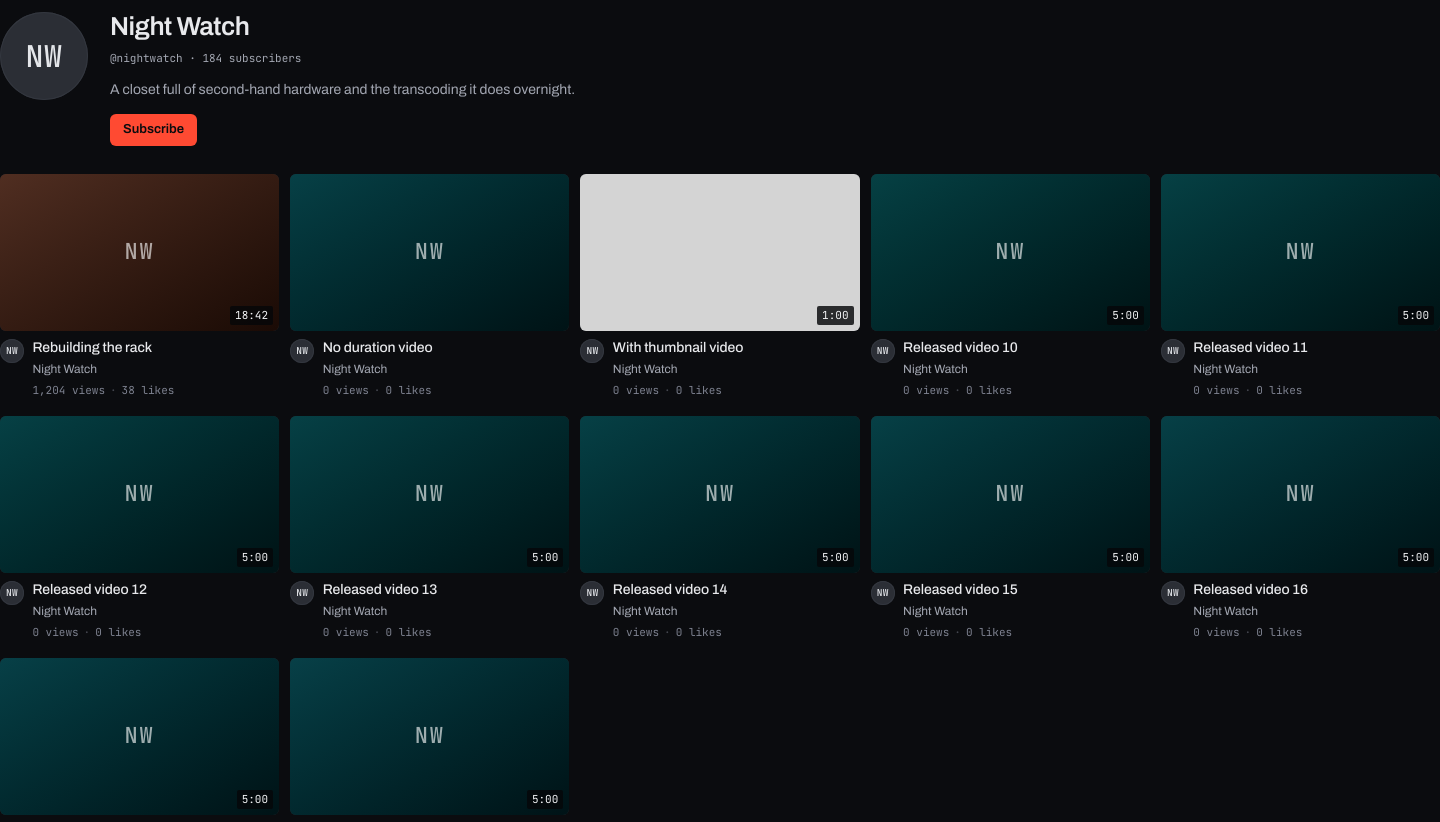
Test: Channel page › subscribes and unsubscribes with an optimistic subscriber count
The width and height of the screenshot is (1440, 822).
Expected: the heading "Night Watch" is shown, [110,12,249,40]
Click the button "Subscribe".
click(154, 130)  # box [110,114,197,146]
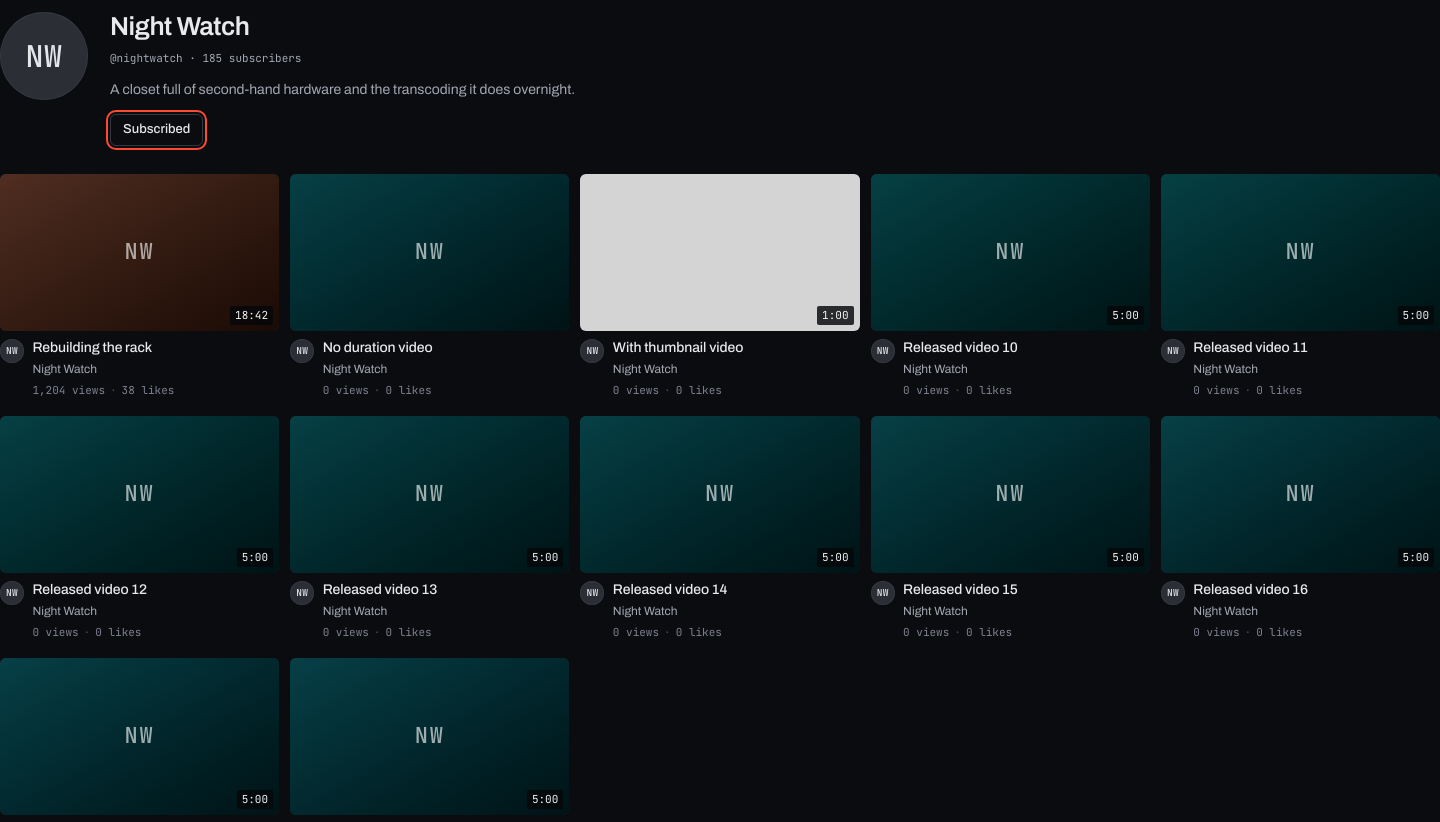
Expected: the text "@nightwatch · 185 subscribers" is shown, [110,51,302,65]
Expected: the button "Subscribed" is shown
Click the button "Subscribed".
click(157, 130)  # box [110,114,203,146]
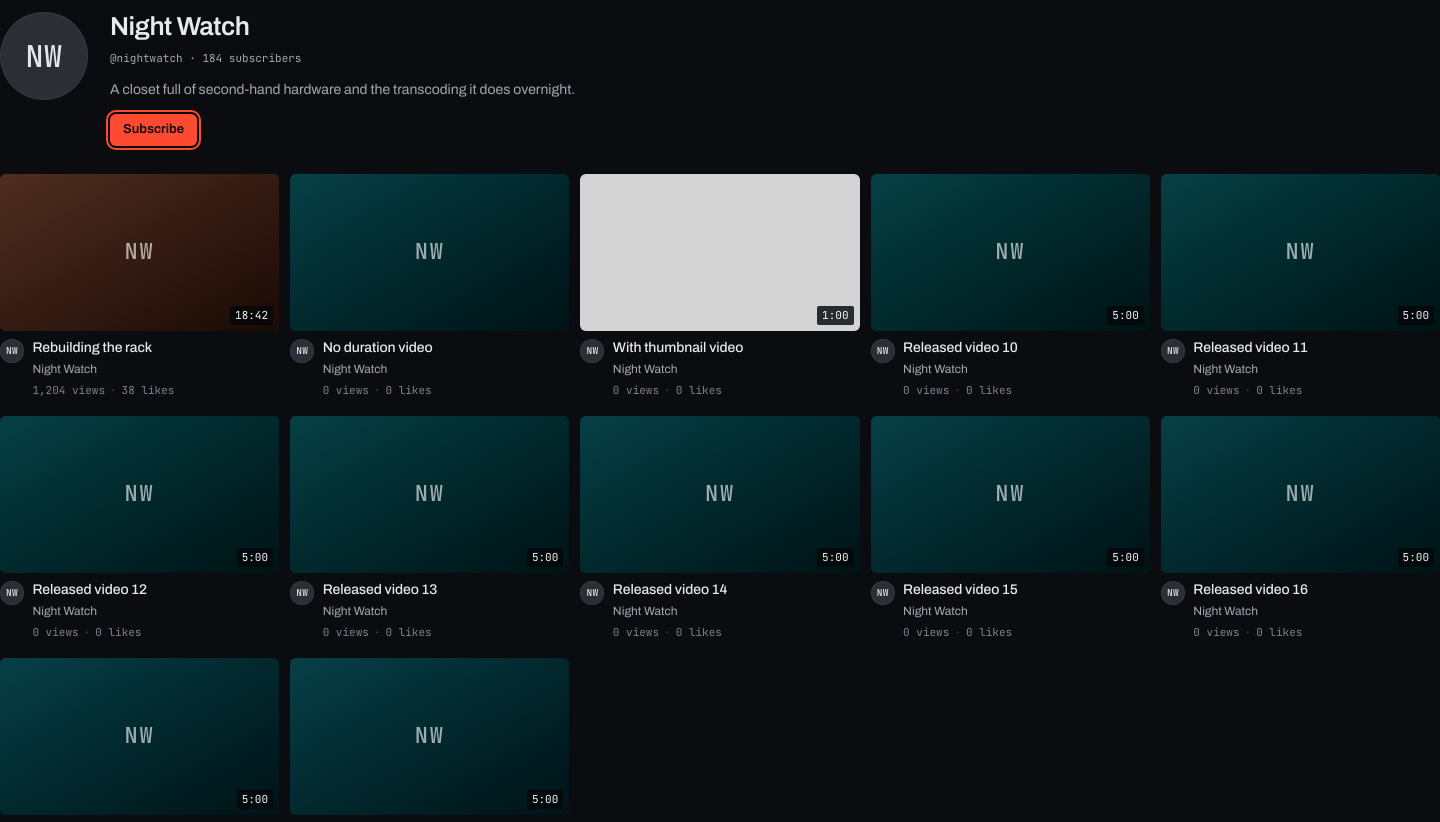
Expected: the text "@nightwatch · 184 subscribers" is shown, [110,51,302,65]
